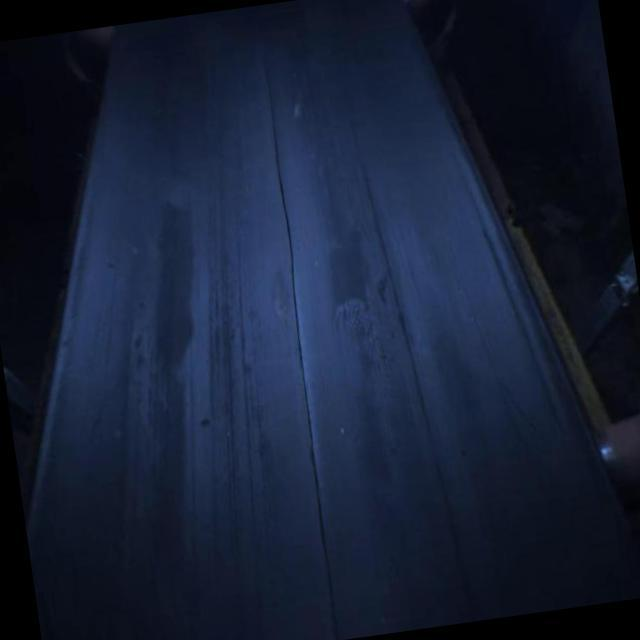Tear: (256, 59, 346, 640)
